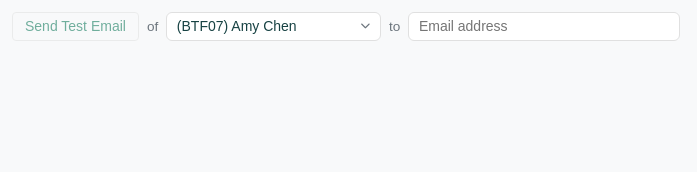
Test: Send Test Email › says what went wrong
This screenshot has width=697, height=172.
Type "nope" into the field with class "test-email__to". click: (544, 26)
box: [408,12,680,41]
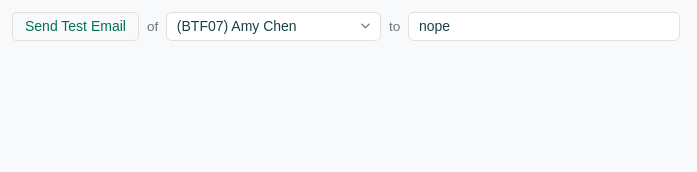
Press Enter in the field with class "test-email__to", box [408,12,680,41]
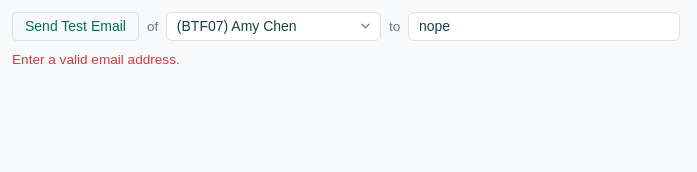
Now the message with class "test-email__result" reads "Enter a valid email address.", box [12,52,180,67]
